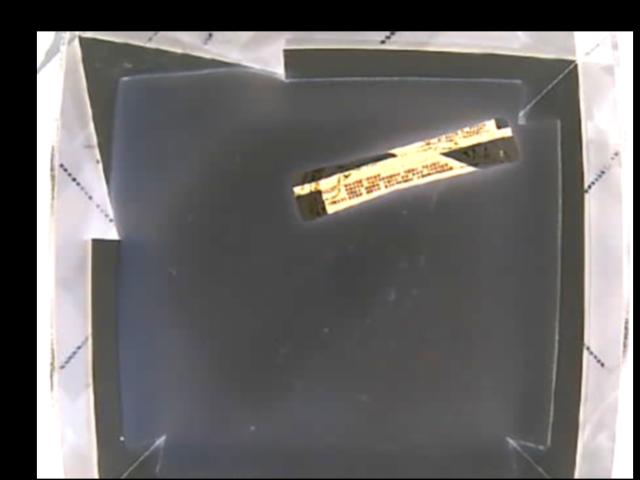Medicine: (290, 114, 522, 221)
